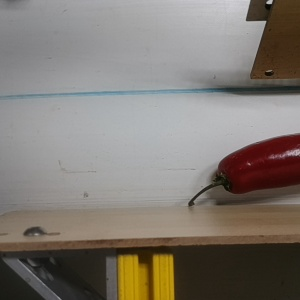Cut Point: (210, 157, 246, 195)
